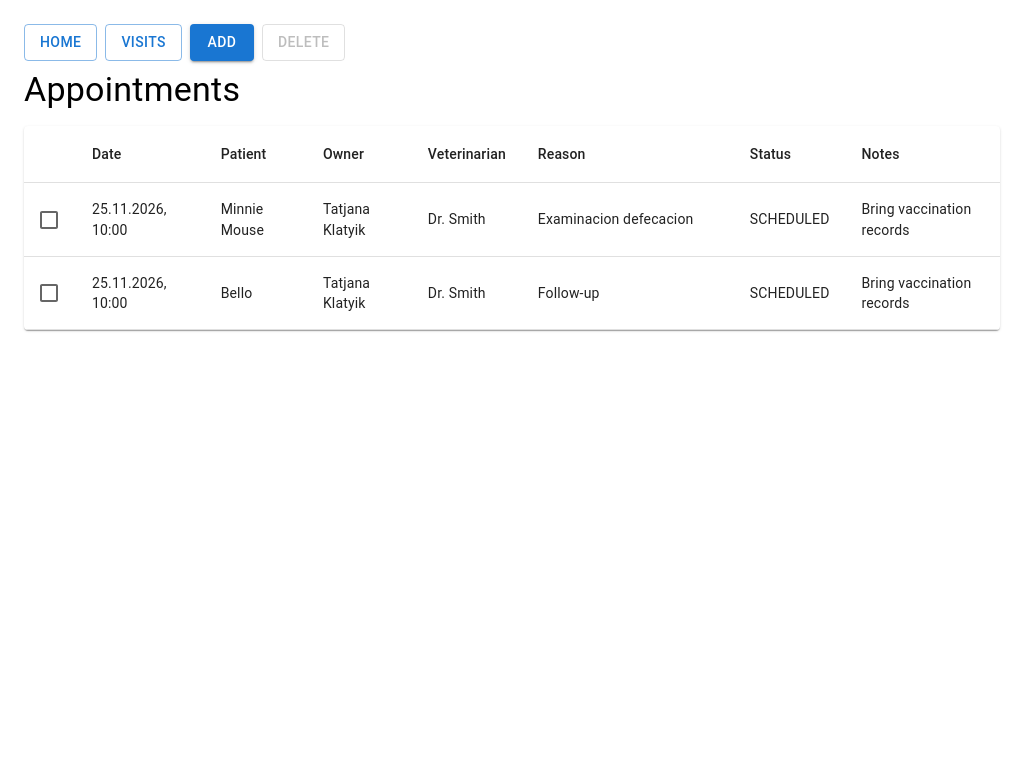
Test: AppointmentsPage › deletes all checked appointments after confirmation
The width and height of the screenshot is (1024, 768).
expect the row named "Open appointment 1 details" is shown: met, box [24,183,1000,256]
Click the checkbox named "Select appointment 1": (49, 220) [37,208,61,232]
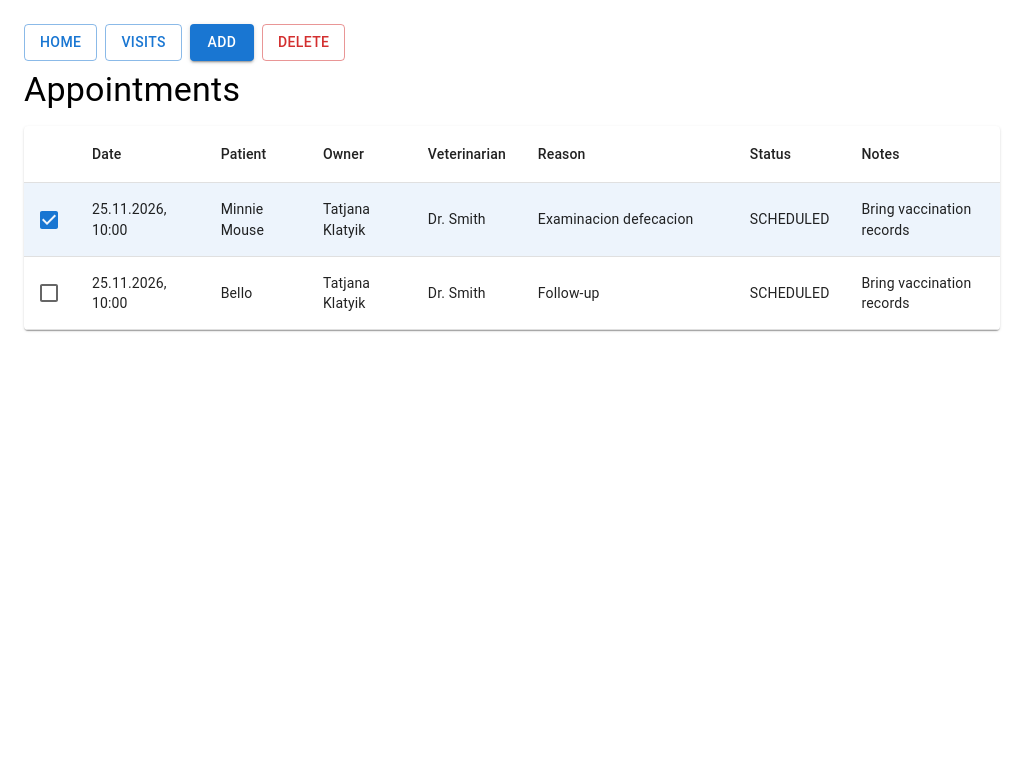
Click the checkbox named "Select appointment 2": (49, 292) [37,280,61,304]
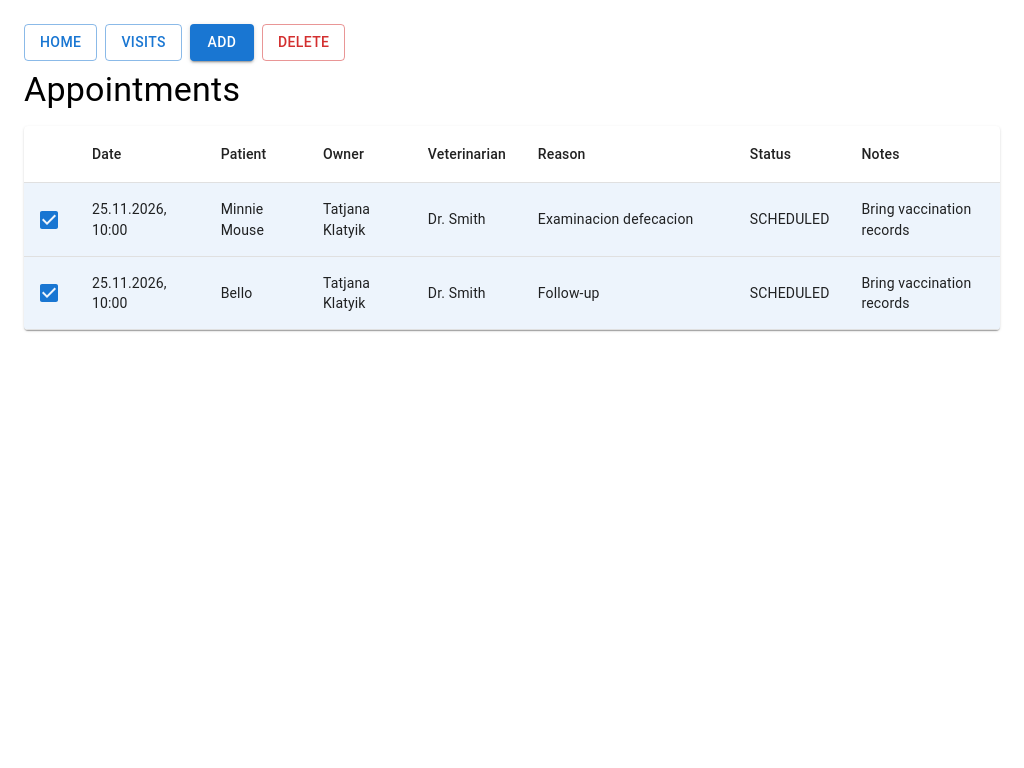
Click the button "Delete": (304, 42) [262,24,345,60]
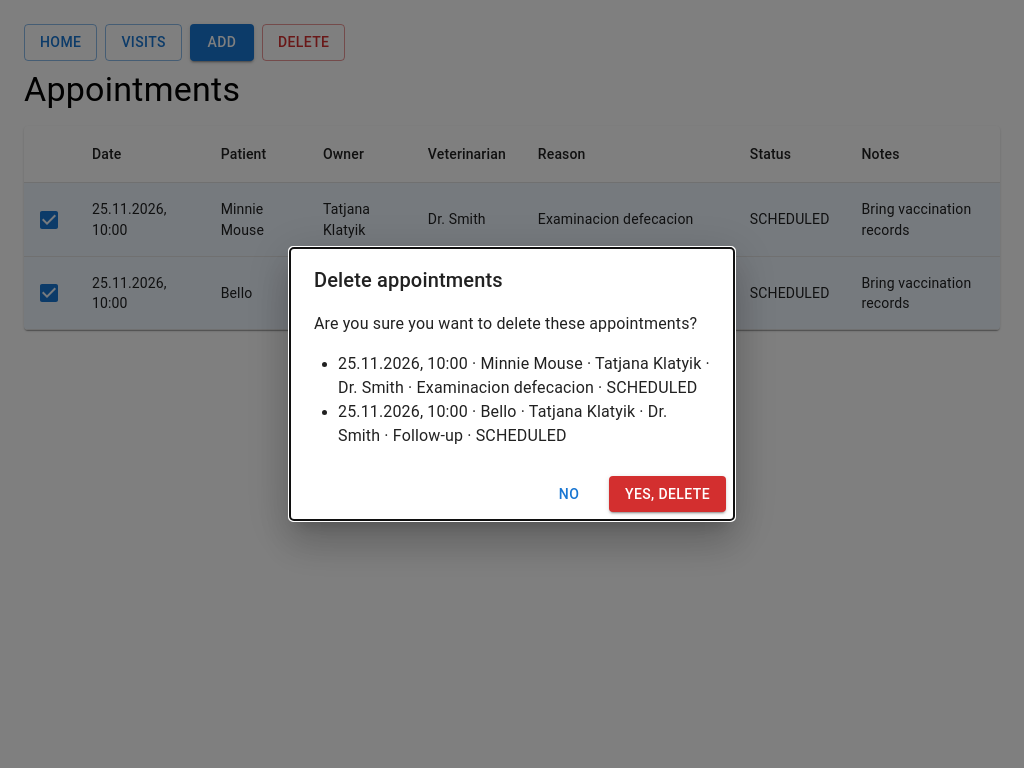
expect the dialog "Delete appointments" shows "Examinacion defecacion": met, box [416,378,594,397]
expect the dialog "Delete appointments" shows "Bello": met, box [480,402,517,421]
Click the button "No": (569, 494) [537,476,601,512]
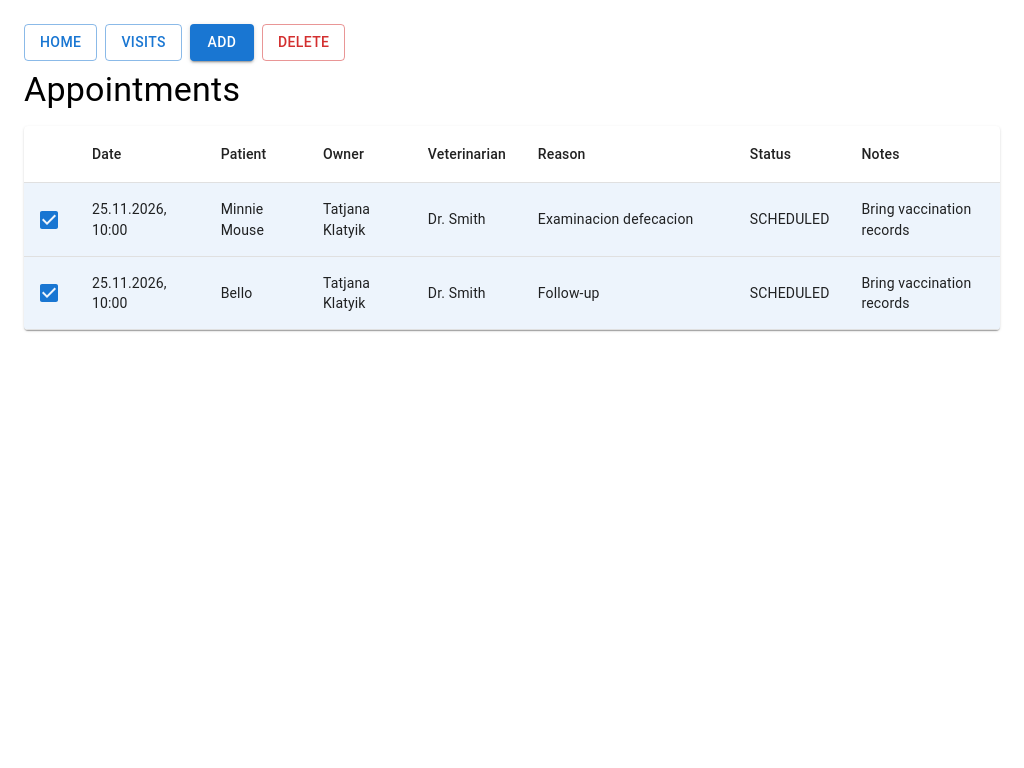
Click the button "Delete": (304, 42) [262,24,345,60]
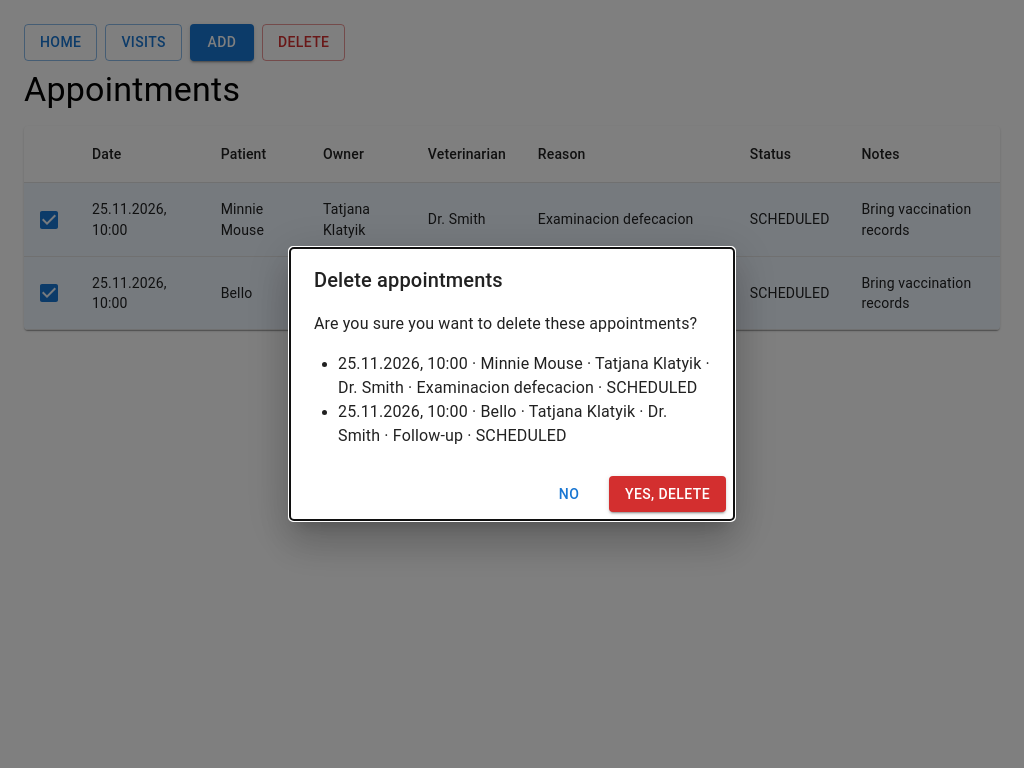
Click the button "Yes, delete": (668, 494) [609,476,726,512]
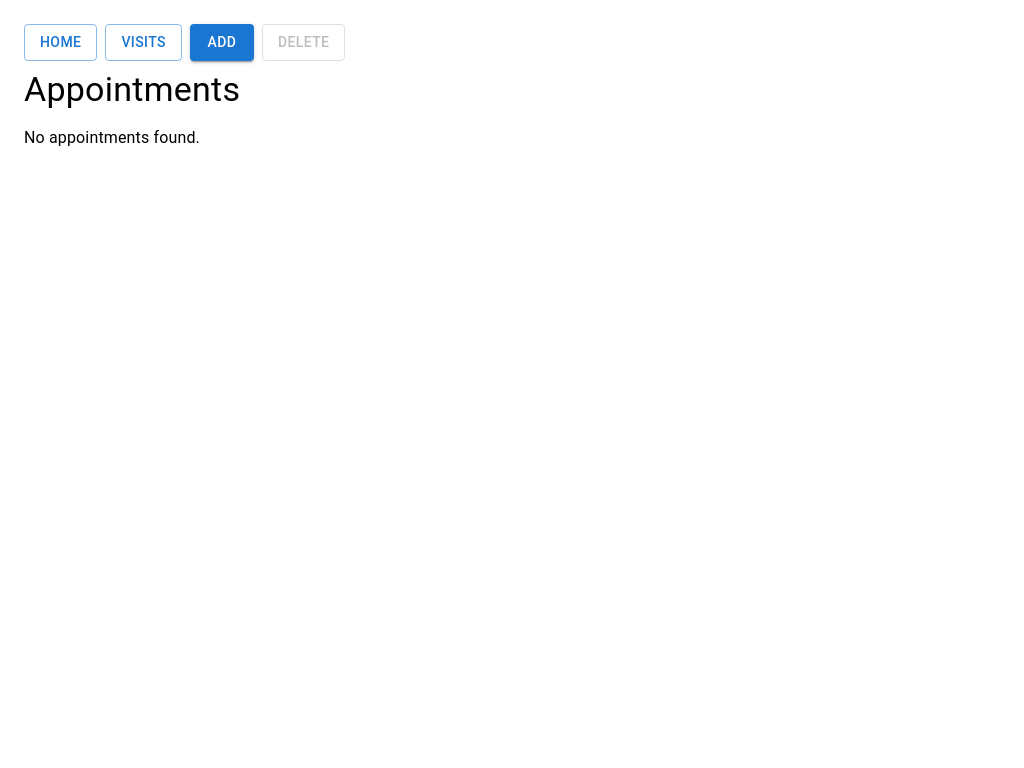
expect the text "No appointments found." is shown: met, box [24,128,200,148]
